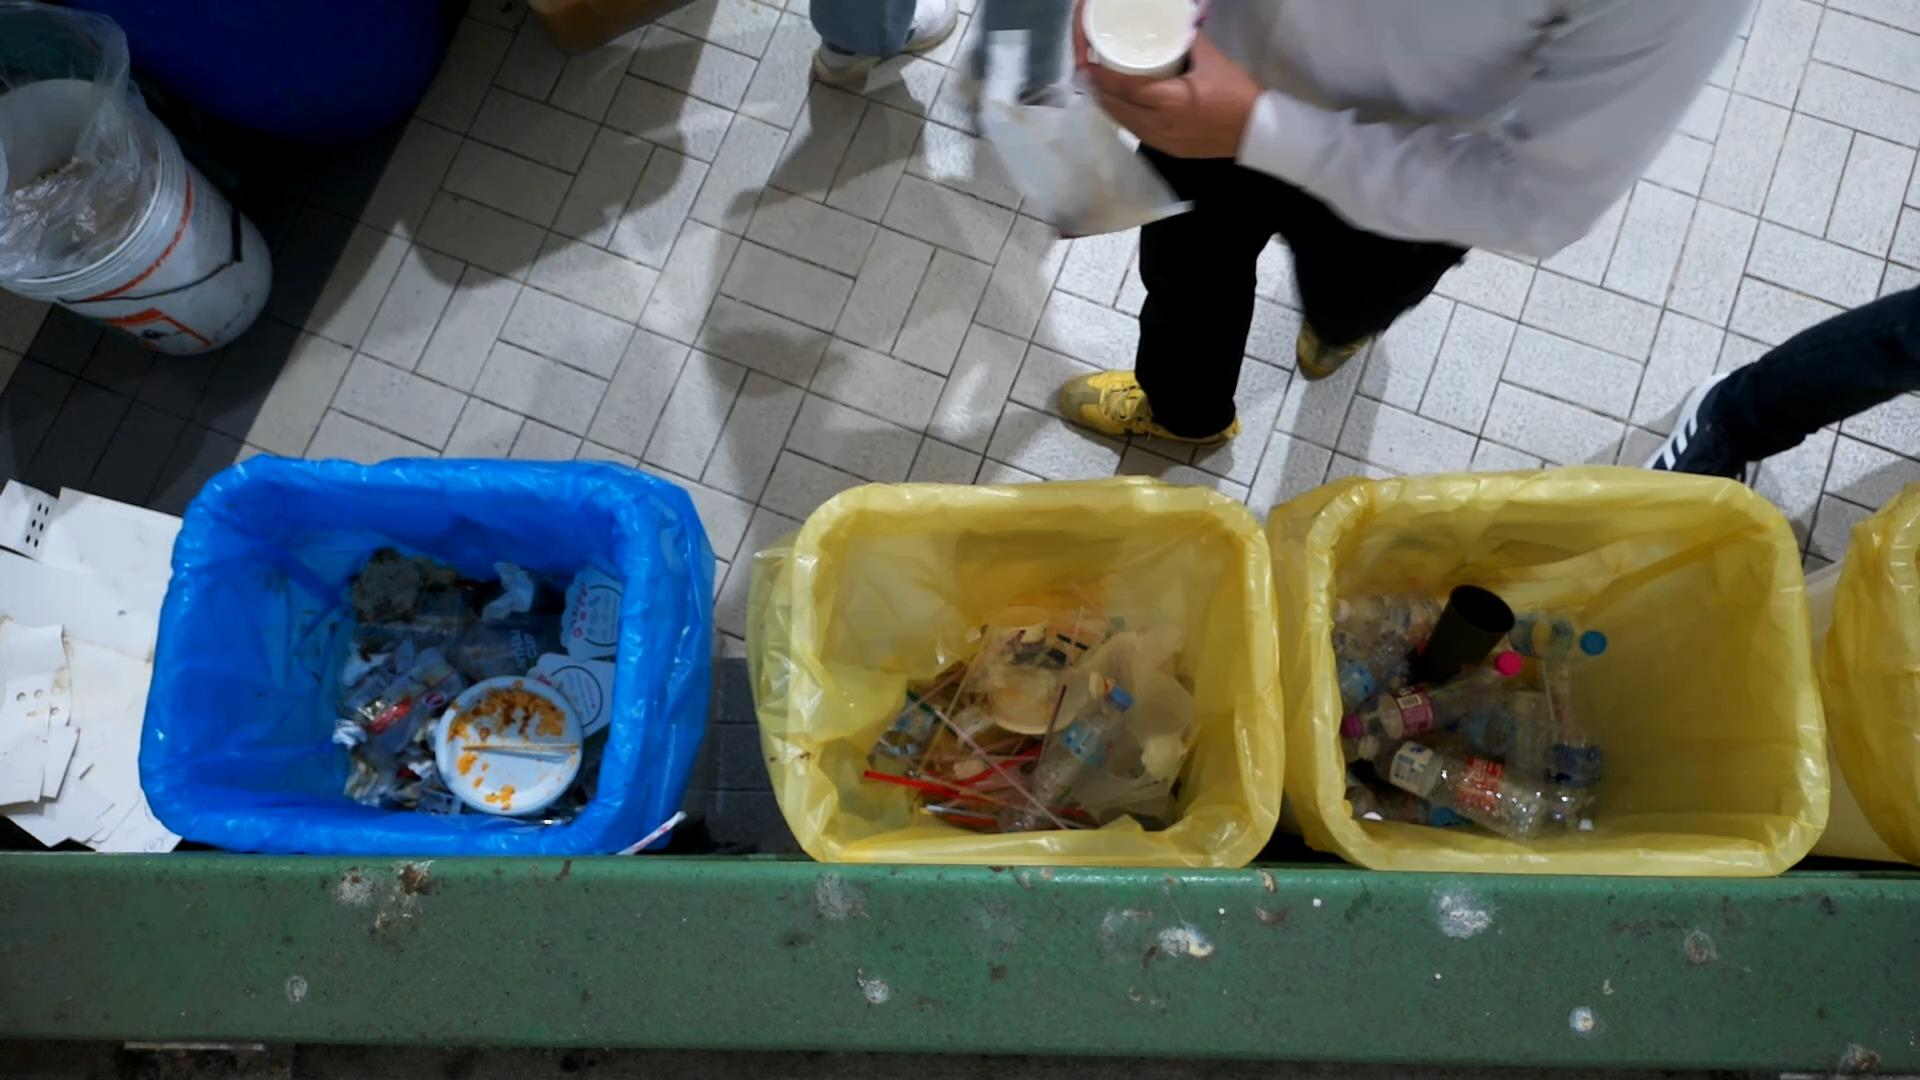dirty food container: (433, 675, 583, 818)
filled plastic bag: (972, 84, 1203, 255)
food container: (1080, 0, 1205, 87), (518, 646, 622, 744), (539, 559, 628, 661), (982, 601, 1054, 657)
plastic bag: (1085, 618, 1204, 822)
plastic bottle: (1356, 735, 1551, 847), (1001, 676, 1137, 816), (1337, 673, 1502, 745), (1464, 704, 1606, 785), (1505, 604, 1611, 676), (1335, 587, 1448, 641)
plastic cup: (1400, 585, 1532, 707)
snack packaging: (339, 637, 450, 736)
sticks: (458, 741, 596, 753)
straw: (943, 698, 1080, 836), (903, 690, 1013, 781), (861, 769, 1002, 811), (1025, 679, 1073, 781)
tissue paper: (485, 560, 541, 624), (1145, 736, 1192, 794)
